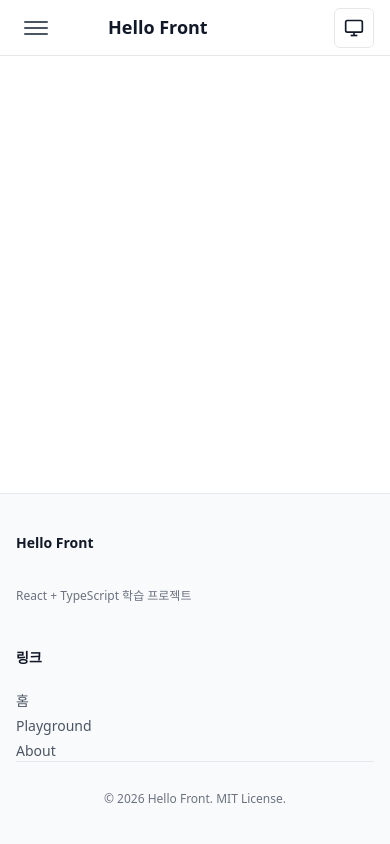
Scenario: AppLayout › 모바일 메뉴 버튼으로 사이드바를 토글할 수 있다
Click the button named "메뉴 열기" at [36, 28], box x1=16 y1=8 x2=56 y2=48
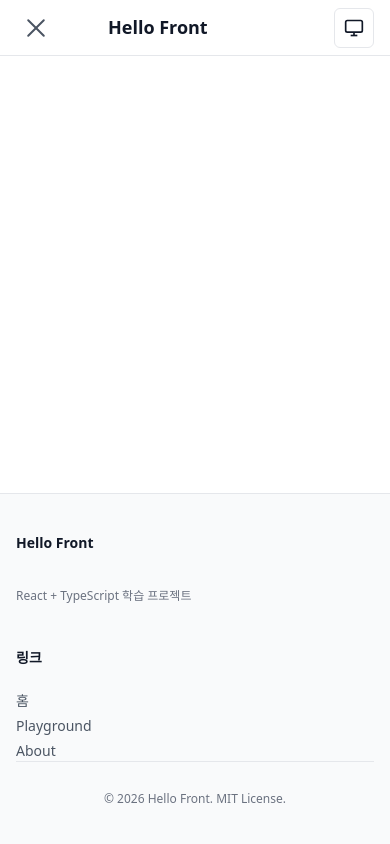
Result: the button named "메뉴 닫기" is expanded at x1=16 y1=8 x2=56 y2=48
